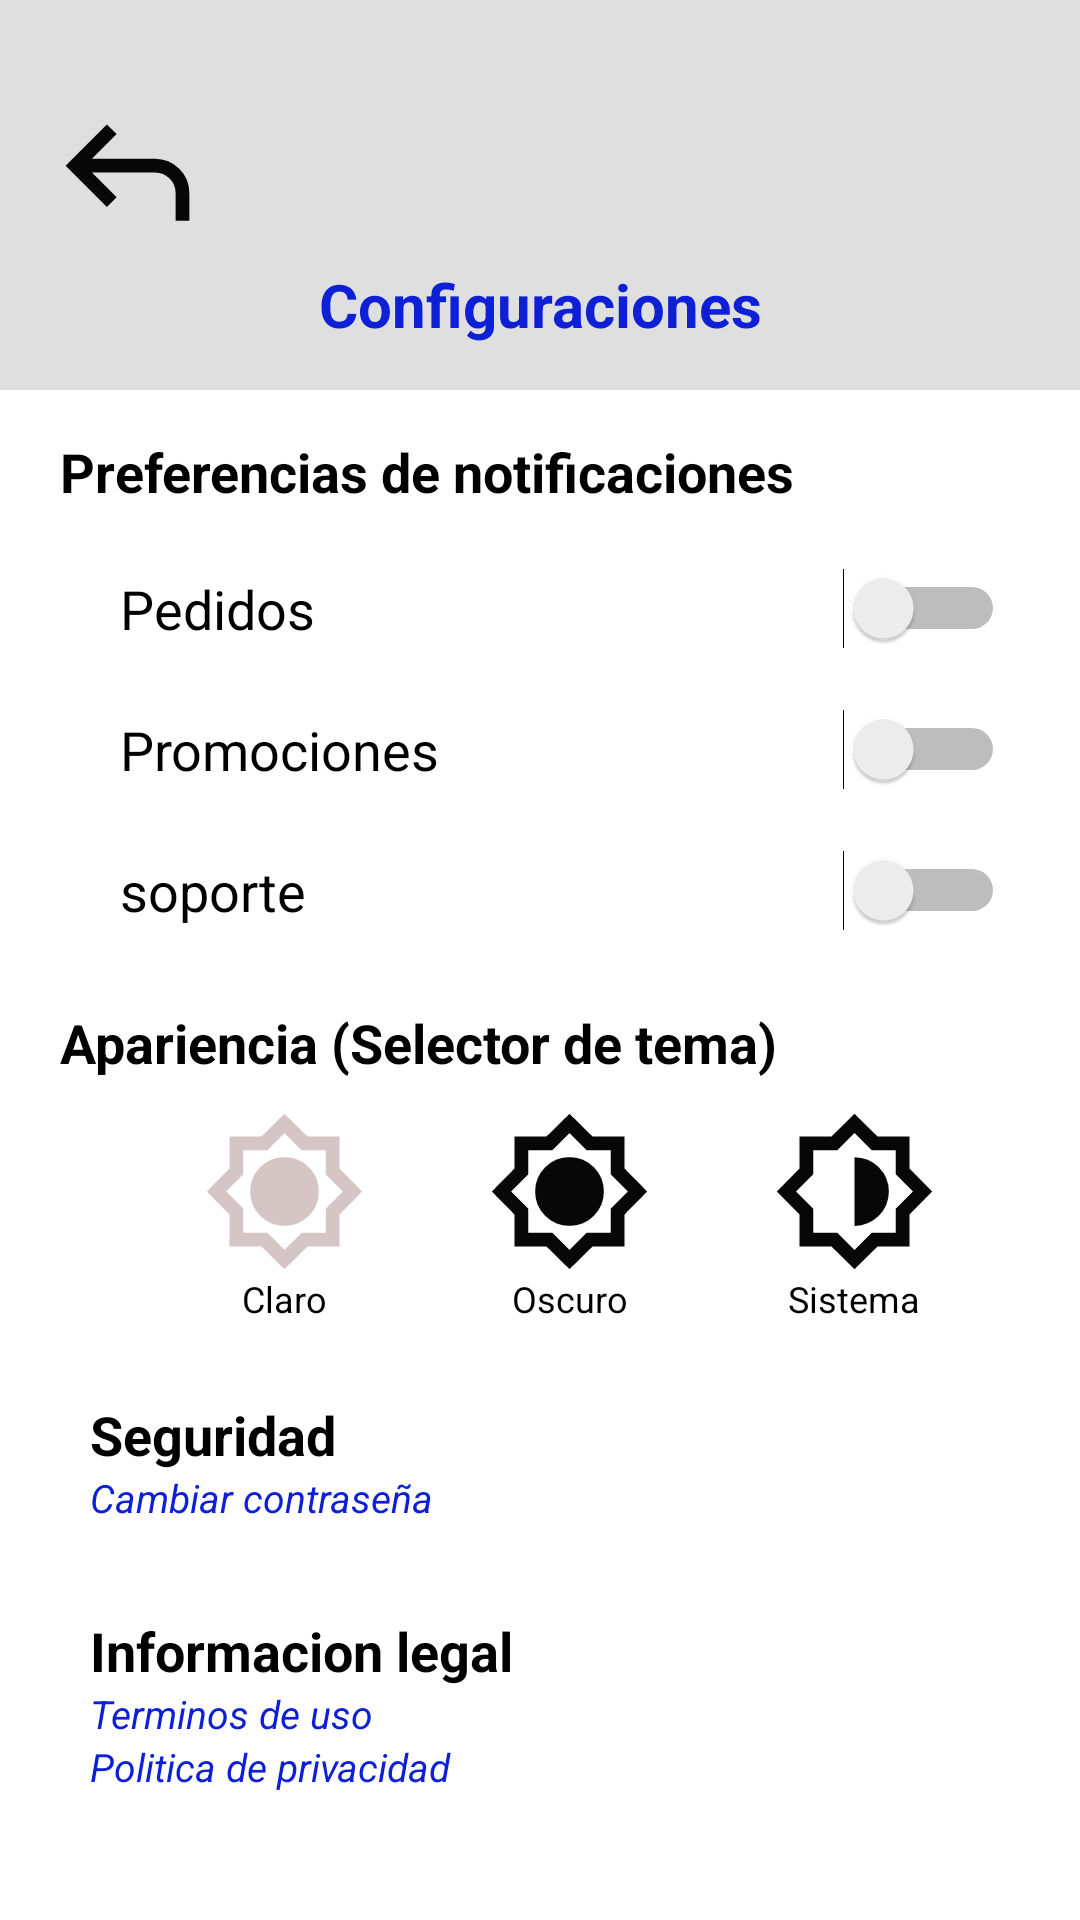

Named icons in this screenshot (1080 x 1920) and their bounding boxes, (x1, y1, x2, y2):
regresar: (65, 124, 190, 221)
